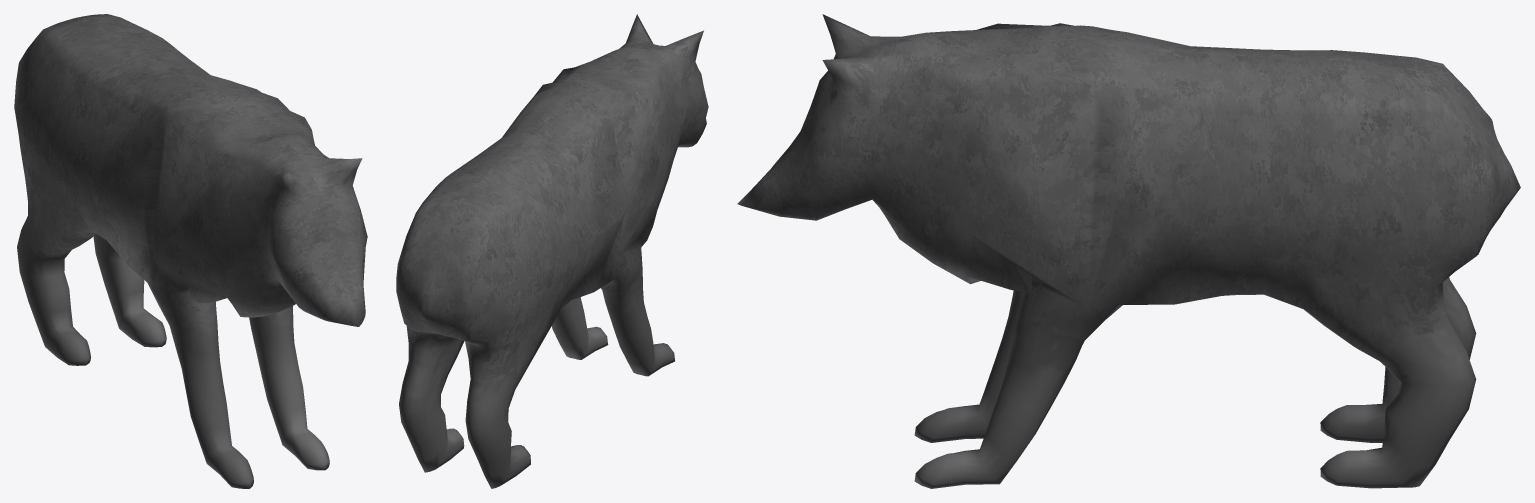
File: piesblend_000038.obj
3 renders of one model, left to right at view 1: azimuth 30°, elevation 25°; view 2: azimuth 150°, elevation 25°; view 3: azimuth 270°, elevation 25°, orthographic. The views are drawn at different scales.
Visible parts, largest first — view 1: Cube; view 2: Cube; view 3: Cube.
Part boxes in pixels (left/top/right/bottom): Cube: left=14, top=14, right=367, bottom=488; Cube: left=396, top=14, right=708, bottom=488; Cube: left=737, top=14, right=1520, bottom=488.
Size of the model in its own units: 2.55 by 5.42 by 9.04.
1 material, 1 textured.
